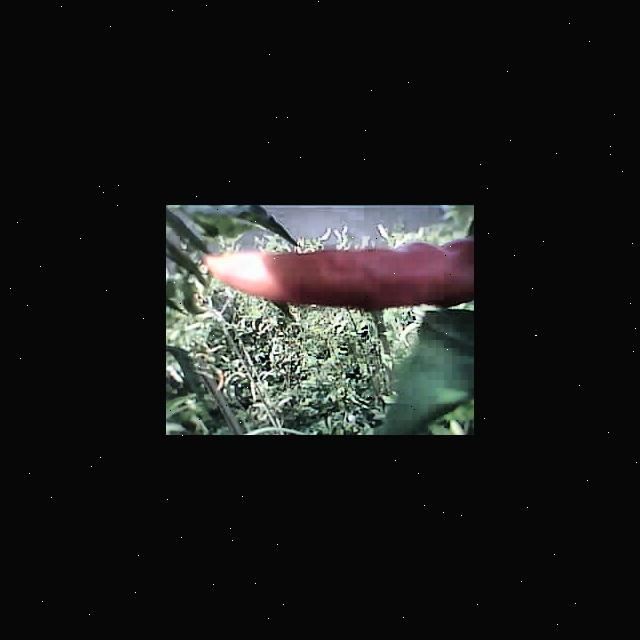Cabai: (197, 249, 474, 305)
